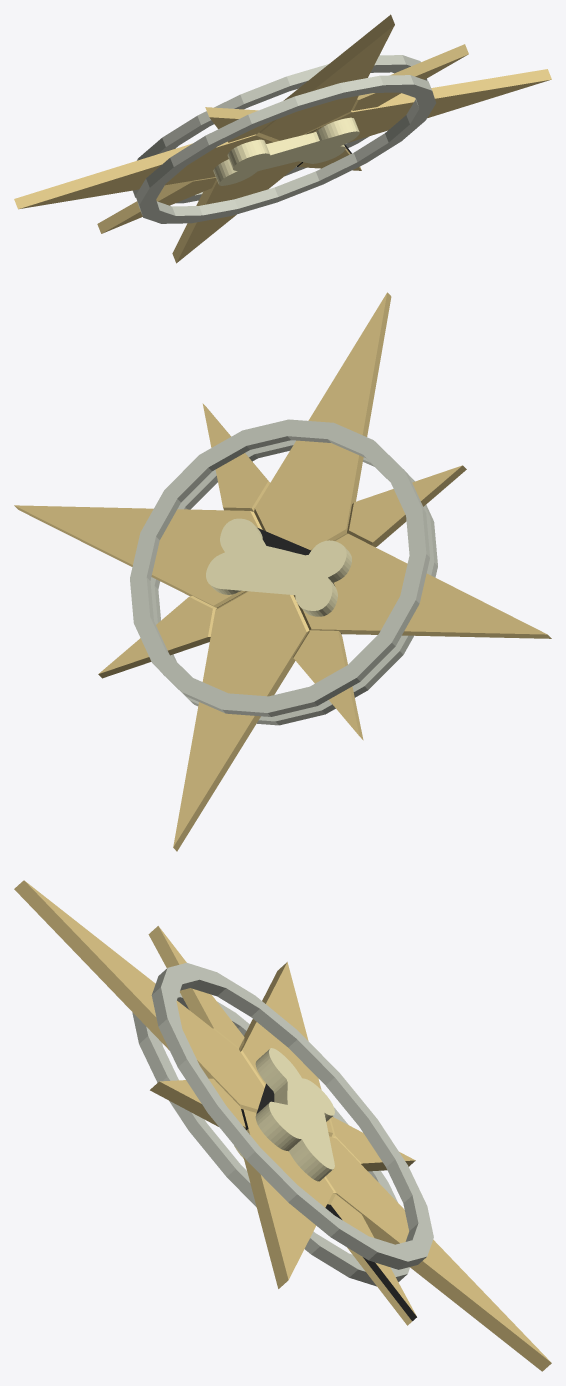
The model's file is Stella_Armor_3_.fbx.
3 renders of one model, top to bottom at view 1: azimuth 30°, elevation 25°; view 2: azimuth 150°, elevation 25°; view 3: azimuth 270°, elevation 25°, orthographic. The views are drawn at different scales.
Visible parts, largest first — view 1: polySurface1.013; view 2: polySurface1.013; view 3: polySurface1.013.
Part boxes in pixels (bbox=[...]): polySurface1.013: bbox=[14, 14, 551, 263]; polySurface1.013: bbox=[14, 292, 551, 851]; polySurface1.013: bbox=[14, 880, 551, 1371].
Bounding box in the file's own units: 36.01 × 26.05 × 25.76.
